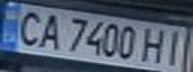0: (118, 22, 142, 61), (103, 20, 121, 58)
4: (84, 18, 106, 56)
7: (60, 15, 87, 54)
A: (33, 10, 66, 51)
C: (9, 7, 48, 47)
H: (139, 26, 172, 65)
I: (160, 28, 190, 65)
